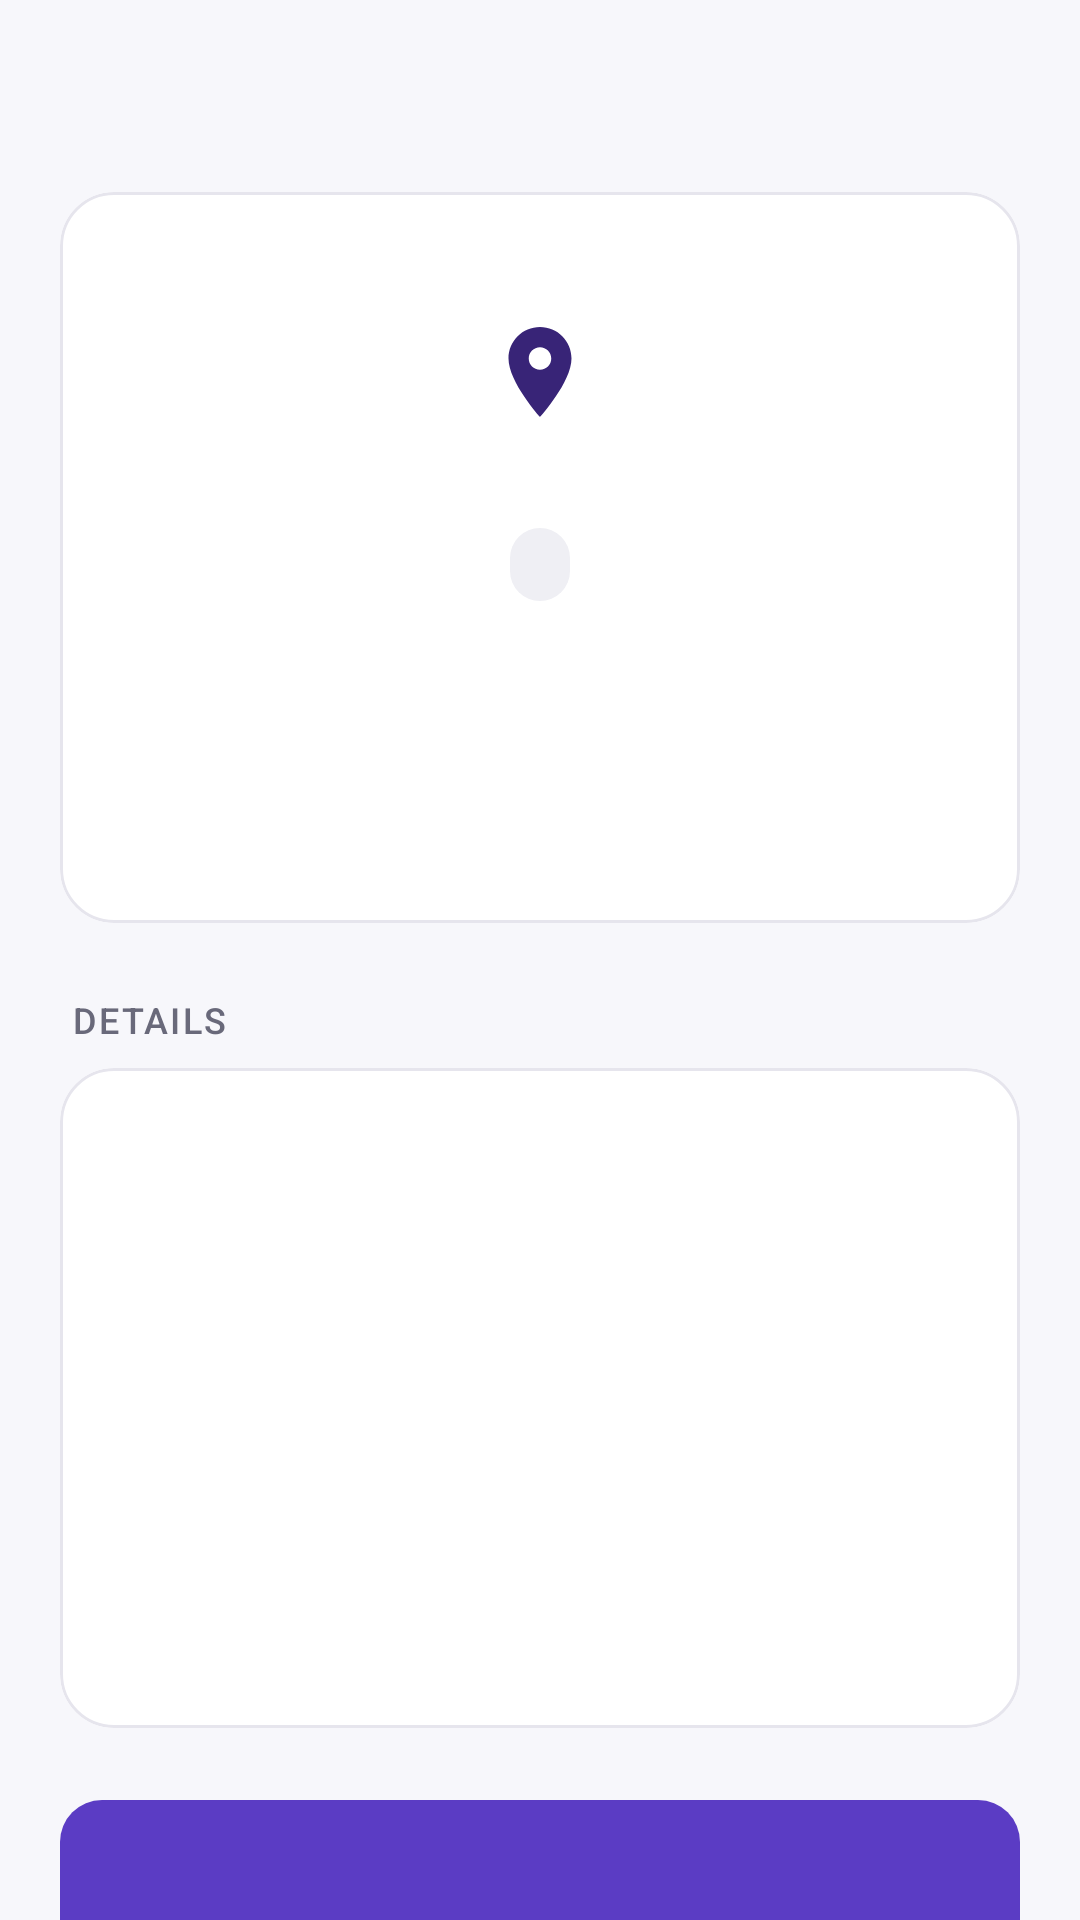

Named icons in this screenshot (1080px×1920px) and their bounding boxes, (x1, y1, x2, y2):
location: (508, 327, 572, 417)
